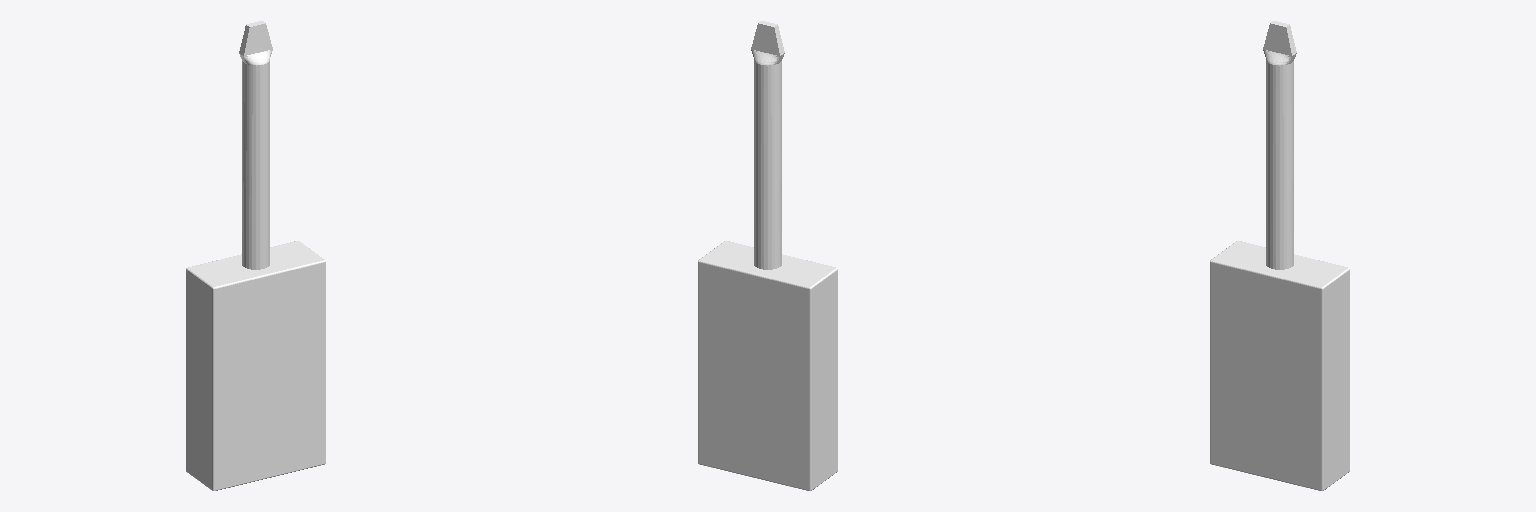
The robot description file, URDF, robot "driver.obj":
<robot name="driver.obj">
	<link name="_name">
		<visual>
			<origin xyz="-6.171700639611819e-18 4.676534658929334e-19 -0.07036610613843167" rpy="0 0 0" />
			<geometry>
				<mesh filename="driver.obj" scale="0.001 0.001 0.001" />
			</geometry>
			<material name="texture">
				<color rgba="1.0 1.0 1.0 1.0" />
			</material>
		</visual>
		<collision>
			<geometry>
				<mesh filename="driver_vhacd.obj" scale="0.001 0.001 0.001" />
			</geometry>
		<origin xyz="-6.171700639611819e-18 4.676534658929334e-19 -0.07036610613843167" rpy="0 0 0" /></collision>
		<inertial>
			<mass value="0.3" />
			<inertia ixx="0.6" ixy="0.0" ixz="0.0" iyy="0.5" iyz="-0.0" izz="0.08" />
		</inertial>
	</link>
</robot>

--- Facts derived from the render (not from the file) ---
3 views of the same robot in one strip: view 1: azimuth 30°, elevation 25°; view 2: azimuth 150°, elevation 25°; view 3: azimuth 330°, elevation 25° (orthographic).
Robot: driver.obj — 1 links, 0 joints (none); root link _name; default pose: every joint at zero.
Visible links, largest first — view 1: _name; view 2: _name; view 3: _name.
Boxes of the visible links, box(x1,y1,x2,y2) form: _name: box(186, 21, 325, 490); _name: box(698, 21, 837, 490); _name: box(1210, 21, 1349, 490).
Size in the robot's own frame: 0.07 by 0.03 by 0.261 metres.
1 mesh visuals loaded from 1 distinct referenced files (1 OBJ).